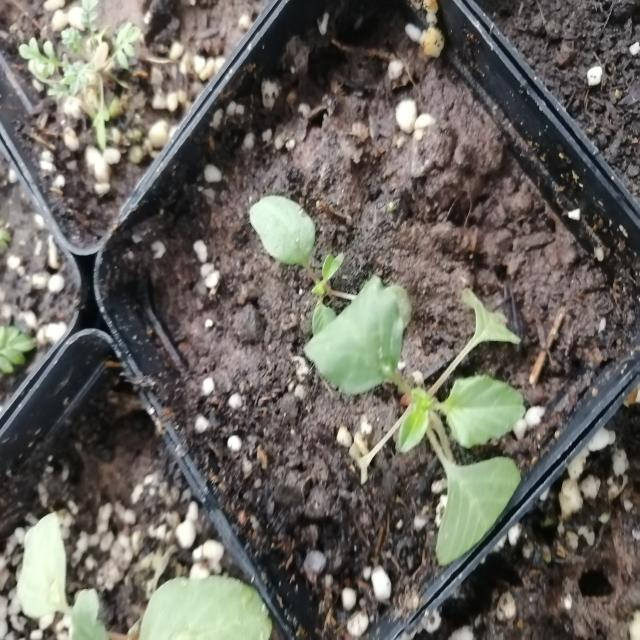pigweed: (317, 265, 527, 545)
